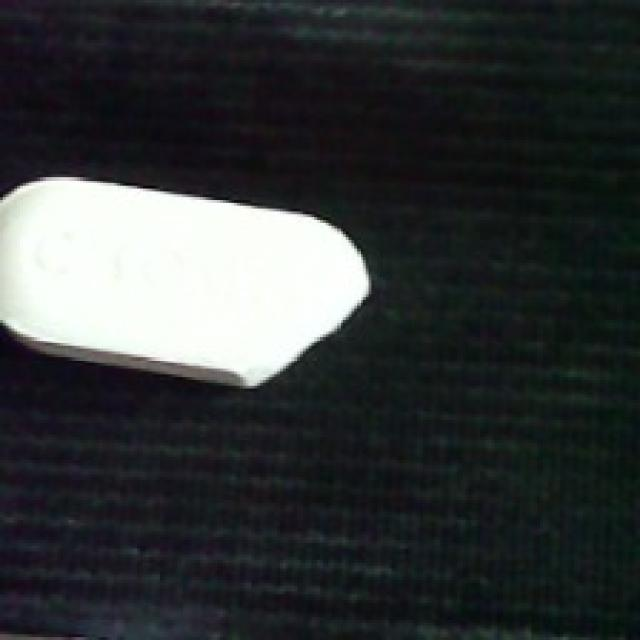defected: (0, 169, 374, 390)
